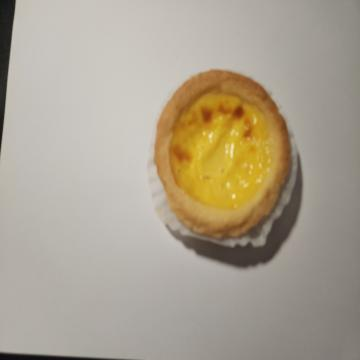EggTart: (158, 69, 290, 238)
